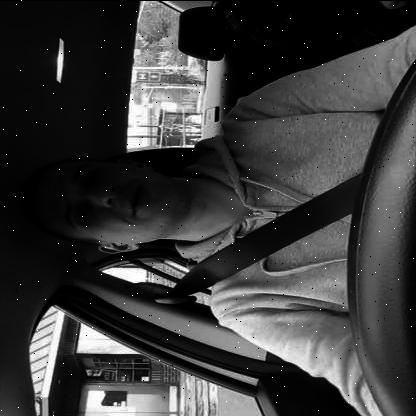seatbelt: (15, 129, 354, 308)
